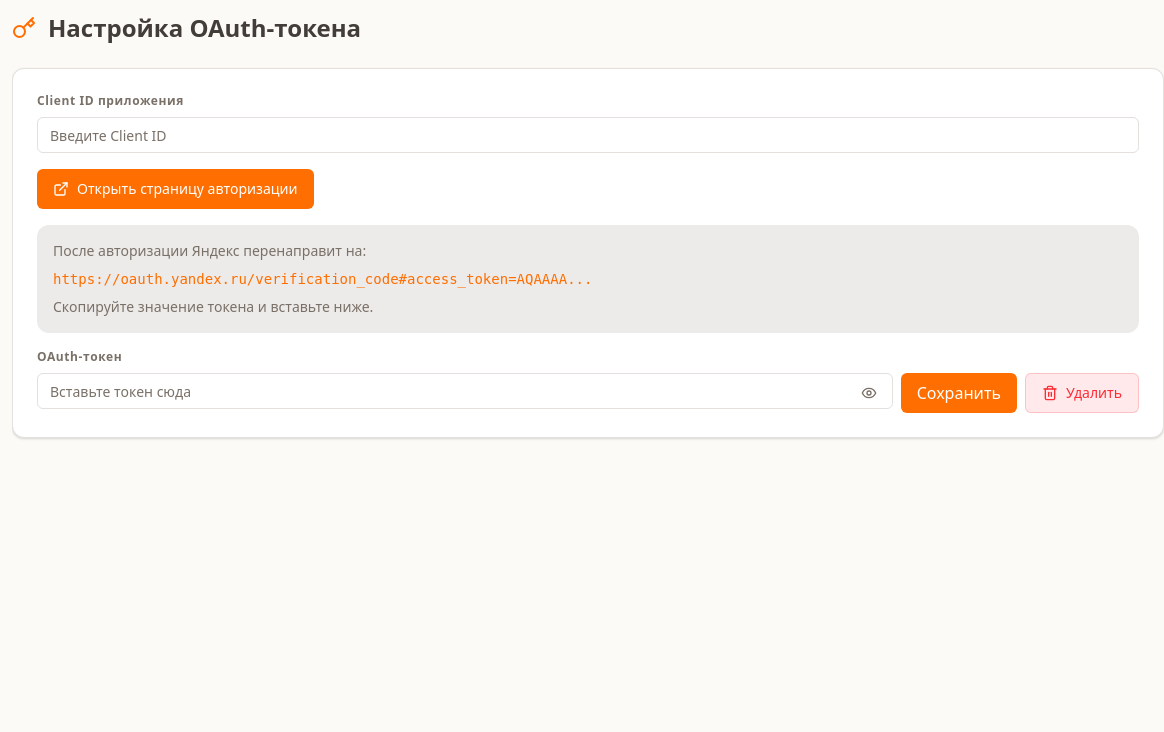
Test: TokenSetup › shows validation error for short token
This screenshot has width=1164, height=732.
Type "short" into the password field labelled "OAuth-токен".
click(465, 391); type("short")  # box top-left (37, 373), bottom-right (893, 409)
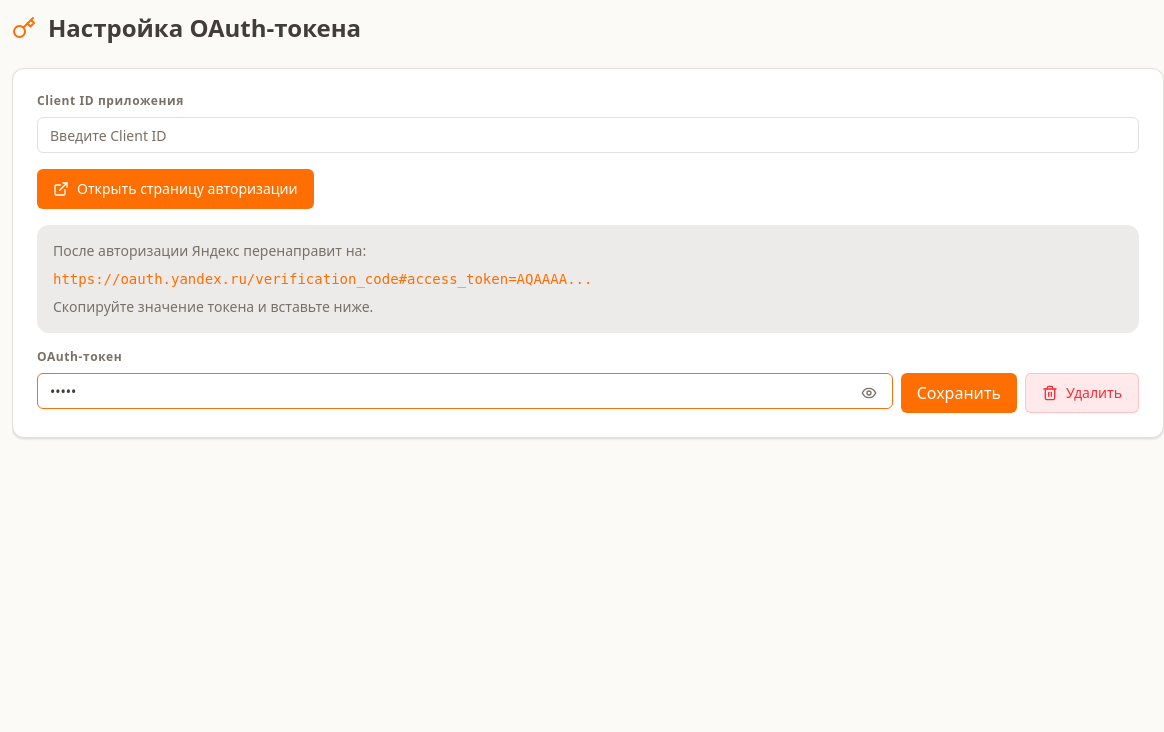
Click the button "Сохранить".
click(959, 393)  # box top-left (901, 373), bottom-right (1017, 413)
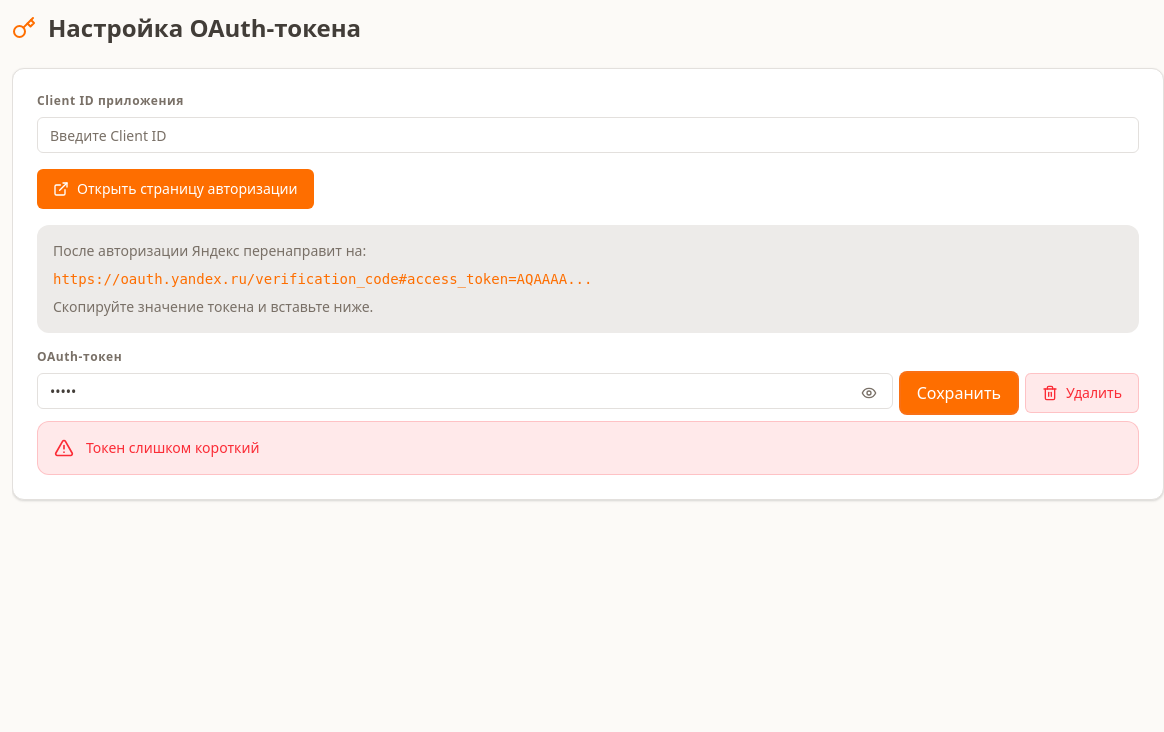
Expected: the text "Токен слишком короткий" is shown, top-left (86, 438), bottom-right (260, 457)
